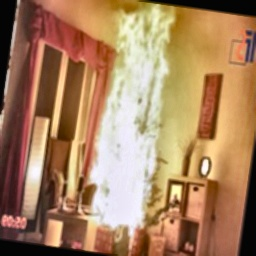fire: (72, 0, 197, 239)
